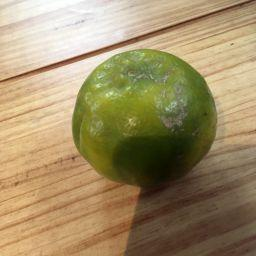Unripe: (71, 51, 217, 189)
